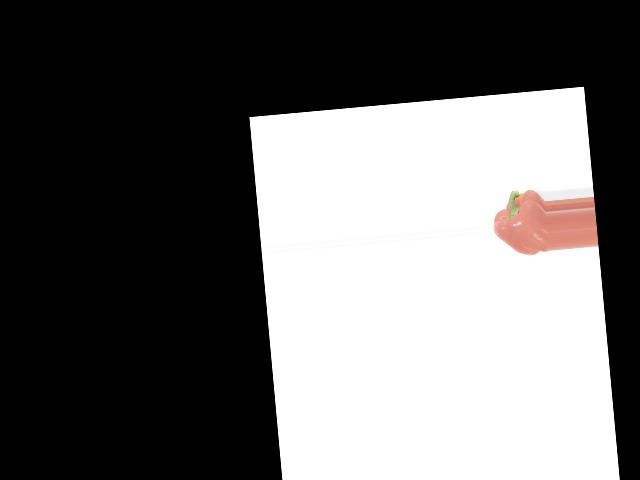bell_pepper: (489, 179, 550, 265)
